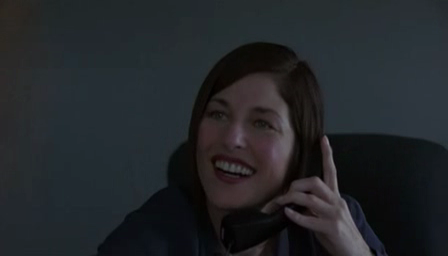cu: (1, 1, 448, 256)
face: (197, 84, 291, 209)
person: (96, 40, 389, 256)
